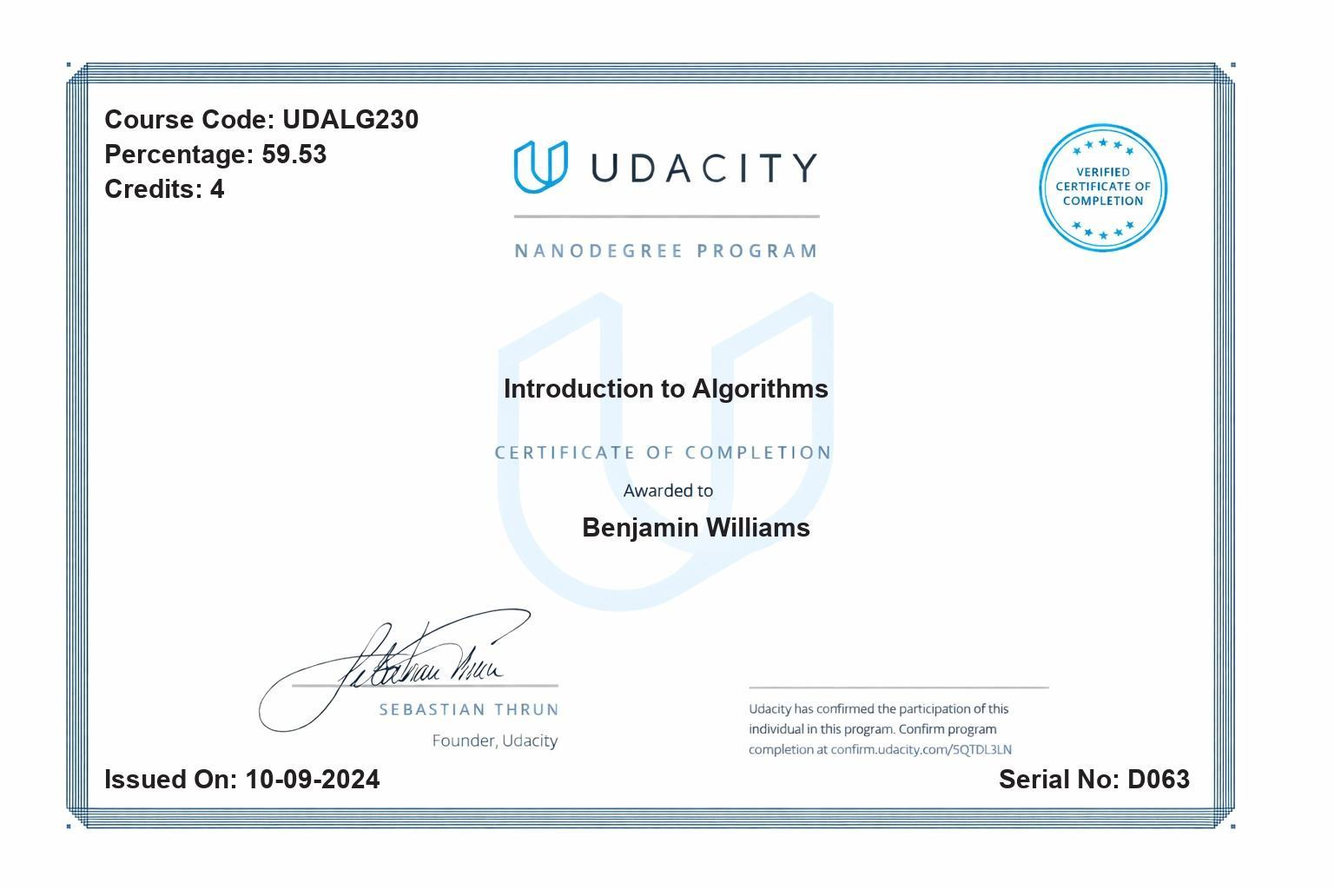Course Code: (279, 97, 427, 136)
Course Name: (494, 372, 838, 416)
Credits: (207, 173, 241, 213)
Issued On: (242, 760, 389, 798)
Percentage: (256, 138, 333, 175)
Serial No: (1122, 757, 1203, 795)
Student Name: (576, 505, 822, 551)
